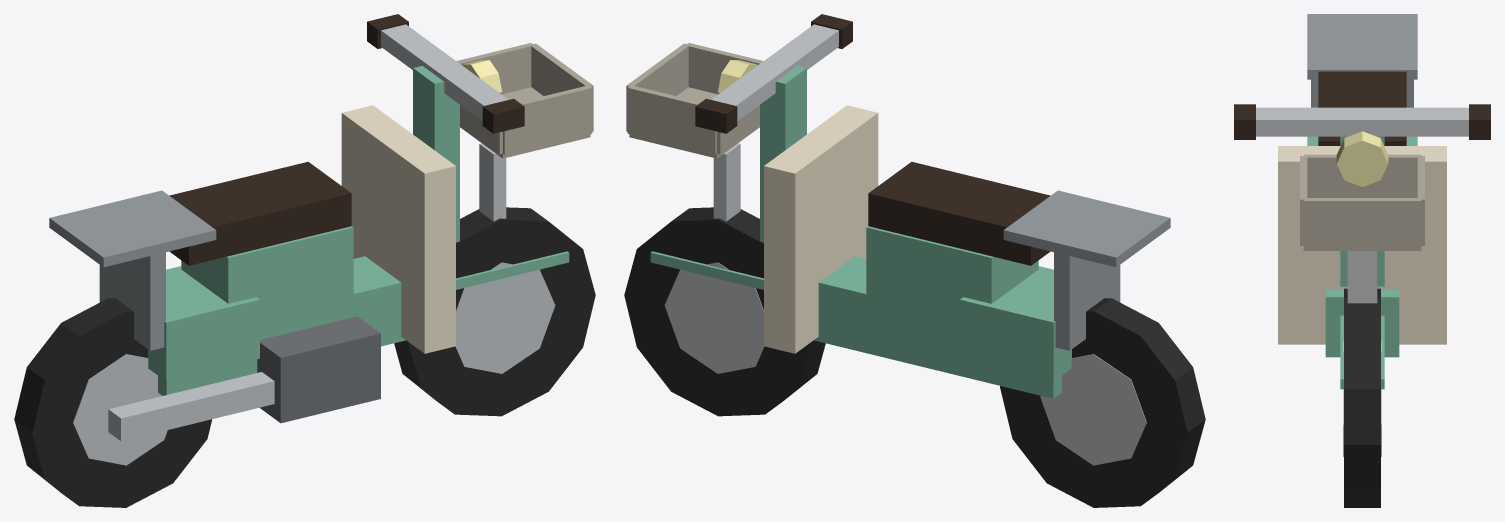
Rendered from moped.glb.
3 views of the same model, side by side, from view 1: azimuth 30°, elevation 25°; view 2: azimuth 150°, elevation 25°; view 3: azimuth 270°, elevation 25° (orthographic).
Visible parts, largest first — view 1: frame, wheelFrontMesh, wheelRearMesh; view 2: frame, wheelRearMesh, wheelFrontMesh; view 3: frame, wheelFrontMesh.
Boxes of the visible parts, x1,y1,x2,y2 form: frame: [49, 14, 593, 441]; wheelFrontMesh: [394, 207, 595, 416]; wheelRearMesh: [14, 298, 212, 507]; frame: [626, 14, 1170, 398]; wheelRearMesh: [1000, 298, 1205, 507]; wheelFrontMesh: [624, 207, 825, 416]; frame: [1234, 14, 1490, 389]; wheelFrontMesh: [1343, 288, 1381, 507].
Size of the model in its own units: 1.8 by 1.09 by 0.7.
